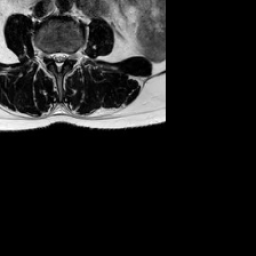CCS_normal: (55, 44, 61, 77)
LFS_normal: (67, 44, 74, 65)
LLS_normal: (61, 44, 67, 67)
RFS_stenosis: (42, 43, 49, 65)
RLS_normal: (49, 44, 55, 65)
